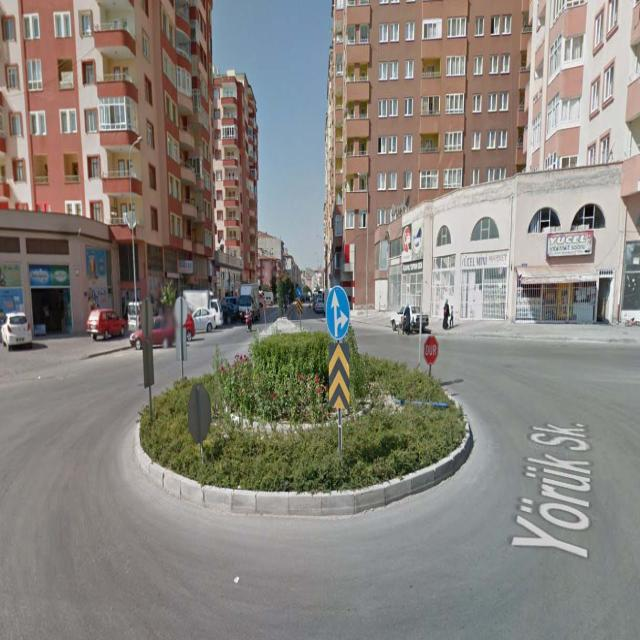dur: (425, 336, 438, 364)
ilerisag: (326, 285, 350, 340)
